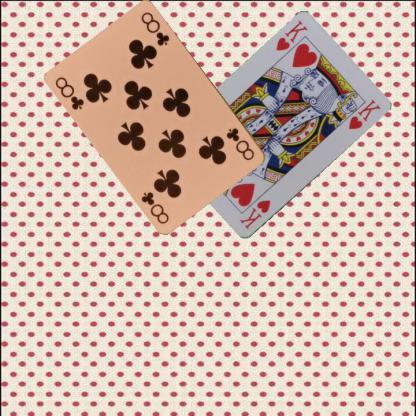8c: (52, 74, 86, 111), (224, 125, 256, 162)
Kh: (236, 197, 272, 231), (273, 18, 309, 52)
